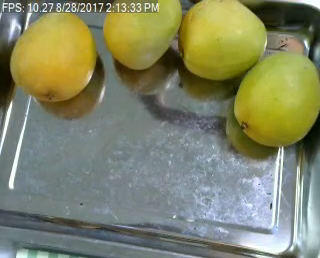Mango: (234, 51, 320, 146), (11, 13, 95, 103), (178, 0, 266, 79), (102, 0, 182, 70)
